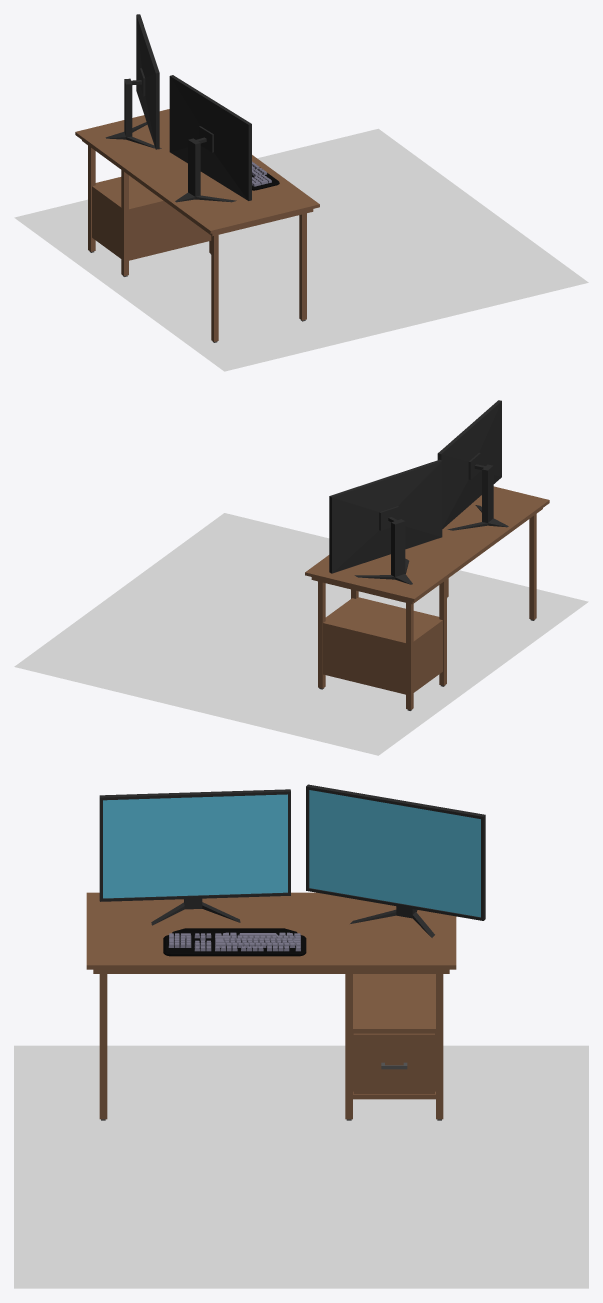
Rendered from gameroom.glb.
3 renders of one model, top to bottom at view 1: azimuth 30°, elevation 25°; view 2: azimuth 150°, elevation 25°; view 3: azimuth 270°, elevation 25°, orthographic. The views are drawn at different scales.
Visible parts, largest first — view 1: Plane, desk5_BlackWood_0, Monitor, Monitor.001; view 2: Plane, desk5_BlackWood_0, Monitor.001, Monitor; view 3: Plane, desk5_BlackWood_0, Monitor, Monitor.001, Alusta.
Part boxes in pixels (<box>): Plane: <box>14,128,588,371</box>; desk5_BlackWood_0: <box>75,109,319,341</box>; Monitor: <box>169,75,251,202</box>; Monitor.001: <box>105,14,161,149</box>; Plane: <box>14,513,588,755</box>; desk5_BlackWood_0: <box>305,486,549,709</box>; Monitor.001: <box>329,459,442,584</box>; Monitor: <box>437,400,508,530</box>; Plane: <box>14,1045,588,1288</box>; desk5_BlackWood_0: <box>86,892,456,1119</box>; Monitor: <box>99,789,290,925</box>; Monitor.001: <box>306,784,485,937</box>; Alusta: <box>163,928,306,956</box>.
Size of the model in its own units: 3 by 1.66 by 3.
6 materials, 2 textured.
